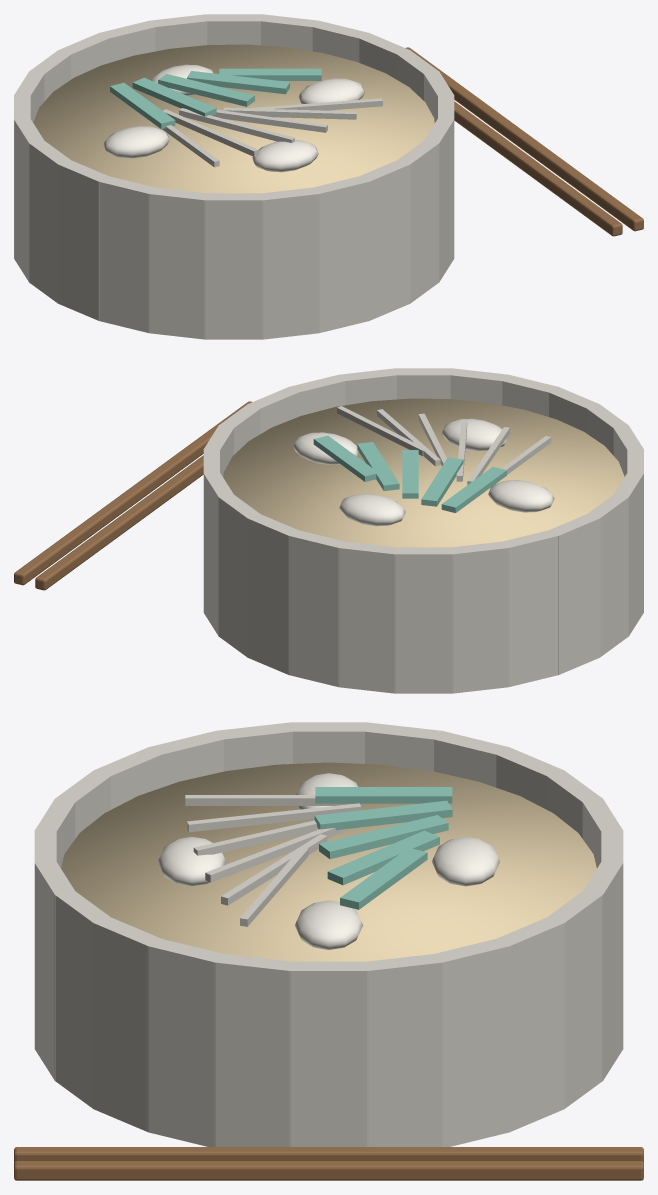
Rendered from Bokguk_blockout.glb.
The picture shows the model from 3 angles, top to bottom: view 1: azimuth 30°, elevation 25°; view 2: azimuth 150°, elevation 25°; view 3: azimuth 270°, elevation 25°; orthographic projection. The views are drawn at different scales.
Visible parts, largest first — view 1: FOOD05_Bokguk_Broth_L0, FOOD05_Bokguk_BowlRim16_L0, FOOD05_Bokguk_BowlRim17_L0, FOOD05_Bokguk_BowlRim15_L0, FOOD05_Bokguk_BowlRim18_L0, FOOD05_Bokguk_BowlRim14_L0, FOOD05_Bokguk_BowlRim13_L0, FOOD05_Bokguk_BowlRim19_L0, FOOD05_Bokguk_BowlRim20_L0, FOOD05_Bokguk_BowlRim12_L0, FOOD05_Bokguk_Chopstick1_L0, FOOD05_Bokguk_Chopstick0_L0 (+30 smaller); view 2: FOOD05_Bokguk_Broth_L0, FOOD05_Bokguk_BowlRim8_L0, FOOD05_Bokguk_BowlRim7_L0, FOOD05_Bokguk_BowlRim9_L0, FOOD05_Bokguk_BowlRim10_L0, FOOD05_Bokguk_BowlRim6_L0, FOOD05_Bokguk_BowlRim11_L0, FOOD05_Bokguk_BowlRim5_L0, FOOD05_Bokguk_BowlRim12_L0, FOOD05_Bokguk_BowlRim4_L0, FOOD05_Bokguk_Chopstick1_L0, FOOD05_Bokguk_Chopstick0_L0 (+28 smaller); view 3: FOOD05_Bokguk_Broth_L0, FOOD05_Bokguk_BowlRim0_L0, FOOD05_Bokguk_BowlRim1_L0, FOOD05_Bokguk_BowlRim23_L0, FOOD05_Bokguk_BowlRim2_L0, FOOD05_Bokguk_BowlRim22_L0, FOOD05_Bokguk_Chopstick1_L0, FOOD05_Bokguk_BowlRim21_L0, FOOD05_Bokguk_BowlRim3_L0, FOOD05_Bokguk_Chopstick0_L0, FOOD05_Bokguk_BowlRim4_L0, FOOD05_Bokguk_BowlRim20_L0 (+30 smaller).
Boxes of the visible parts, box(x1,y1,x2,y2) form: FOOD05_Bokguk_Broth_L0: box(33, 44, 434, 193); FOOD05_Bokguk_BowlRim16_L0: box(204, 193, 263, 339); FOOD05_Bokguk_BowlRim17_L0: box(258, 187, 319, 339); FOOD05_Bokguk_BowlRim15_L0: box(148, 187, 209, 339); FOOD05_Bokguk_BowlRim18_L0: box(311, 175, 369, 332); FOOD05_Bokguk_BowlRim14_L0: box(98, 176, 157, 332); FOOD05_Bokguk_BowlRim13_L0: box(57, 160, 110, 320); FOOD05_Bokguk_BowlRim19_L0: box(358, 160, 410, 320); FOOD05_Bokguk_BowlRim20_L0: box(396, 139, 439, 303); FOOD05_Bokguk_BowlRim12_L0: box(29, 139, 72, 303); FOOD05_Bokguk_Chopstick1_L0: box(405, 47, 643, 231); FOOD05_Bokguk_Chopstick0_L0: box(454, 101, 622, 236); FOOD05_Bokguk_Broth_L0: box(223, 398, 624, 547); FOOD05_Bokguk_BowlRim8_L0: box(394, 547, 453, 693); FOOD05_Bokguk_BowlRim7_L0: box(338, 541, 398, 693); FOOD05_Bokguk_BowlRim9_L0: box(451, 541, 509, 693); FOOD05_Bokguk_BowlRim10_L0: box(500, 530, 559, 686); FOOD05_Bokguk_BowlRim6_L0: box(288, 530, 346, 686); FOOD05_Bokguk_BowlRim11_L0: box(547, 514, 600, 674); FOOD05_Bokguk_BowlRim5_L0: box(247, 515, 299, 674); FOOD05_Bokguk_BowlRim12_L0: box(586, 493, 628, 657); FOOD05_Bokguk_BowlRim4_L0: box(218, 493, 261, 657); FOOD05_Bokguk_Chopstick1_L0: box(14, 401, 252, 585); FOOD05_Bokguk_Chopstick0_L0: box(35, 455, 203, 590); FOOD05_Bokguk_Broth_L0: box(61, 762, 596, 961); FOOD05_Bokguk_BowlRim0_L0: box(289, 961, 368, 1146); FOOD05_Bokguk_BowlRim1_L0: box(363, 953, 443, 1146); FOOD05_Bokguk_BowlRim23_L0: box(214, 953, 296, 1146); FOOD05_Bokguk_BowlRim2_L0: box(432, 938, 510, 1146); FOOD05_Bokguk_BowlRim22_L0: box(147, 939, 225, 1146); FOOD05_Bokguk_Chopstick1_L0: box(14, 1161, 643, 1180); FOOD05_Bokguk_BowlRim21_L0: box(93, 916, 163, 1132); FOOD05_Bokguk_BowlRim3_L0: box(495, 916, 564, 1132); FOOD05_Bokguk_Chopstick0_L0: box(14, 1147, 643, 1162); FOOD05_Bokguk_BowlRim4_L0: box(548, 890, 603, 1108); FOOD05_Bokguk_BowlRim20_L0: box(54, 891, 111, 1108).
Size of the model in its own units: 0.2725 by 0.0785 by 0.23.
